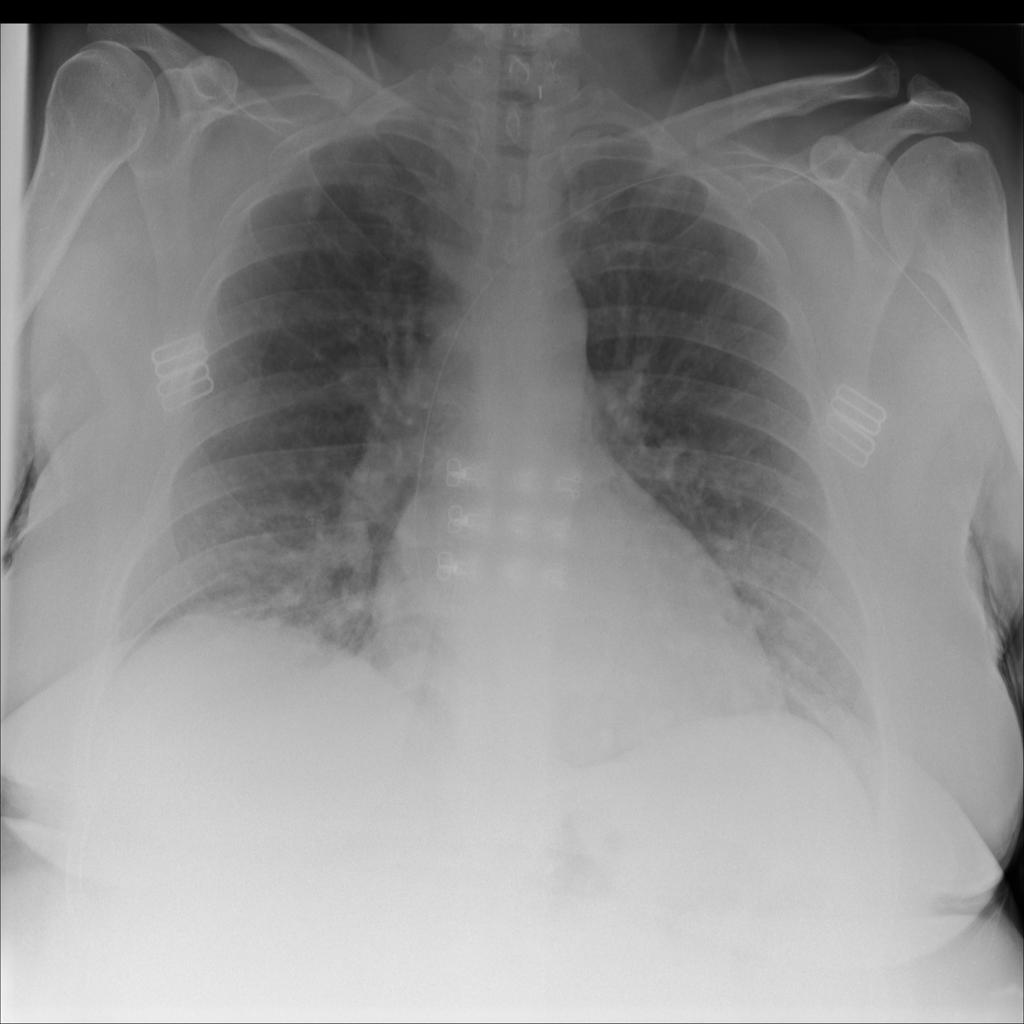nodule: (289, 177, 335, 229)
